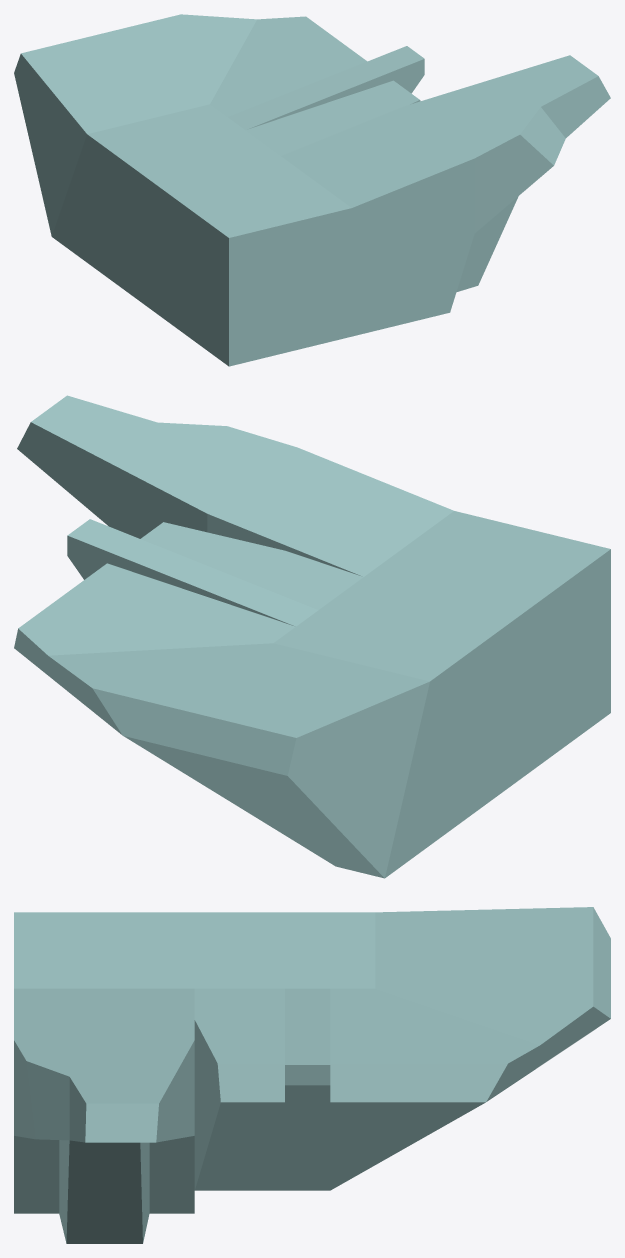
Rendered from x_kray_obriv_blue_28.fbx.
3 views of the same model, one above another, from view 1: azimuth 30°, elevation 25°; view 2: azimuth 150°, elevation 25°; view 3: azimuth 270°, elevation 25° (orthographic). The views are drawn at different scales.
Visible parts, largest first — view 1: x_kray_obriv_blue_28_1; view 2: x_kray_obriv_blue_28_1; view 3: x_kray_obriv_blue_28_1.
Boxes of the visible parts, left/top/right/bottom form: x_kray_obriv_blue_28_1: left=14, top=14, right=610, bottom=366; x_kray_obriv_blue_28_1: left=14, top=395, right=610, bottom=878; x_kray_obriv_blue_28_1: left=14, top=907, right=610, bottom=1243.
Bounding box in the file's own units: 3.34 × 1.34 × 3.3.
